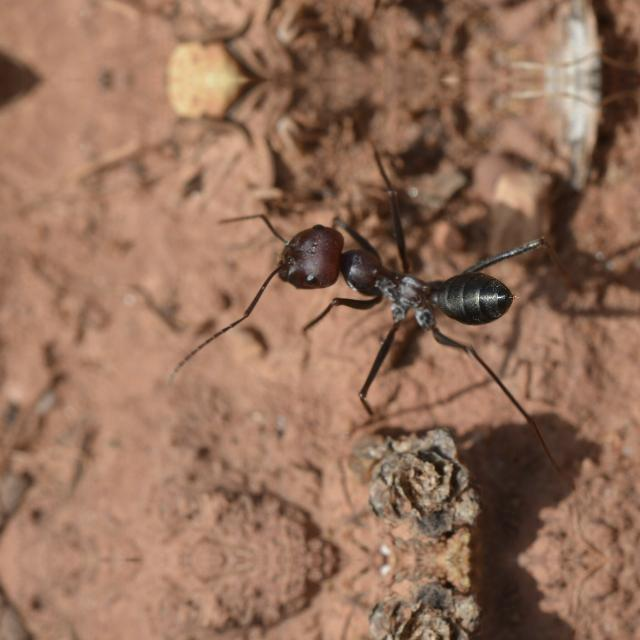Cataglyphis: (232, 198, 544, 368)
